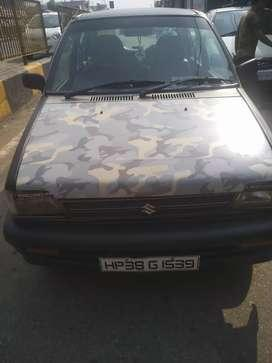HP3SG1539: (97, 255, 198, 270)
